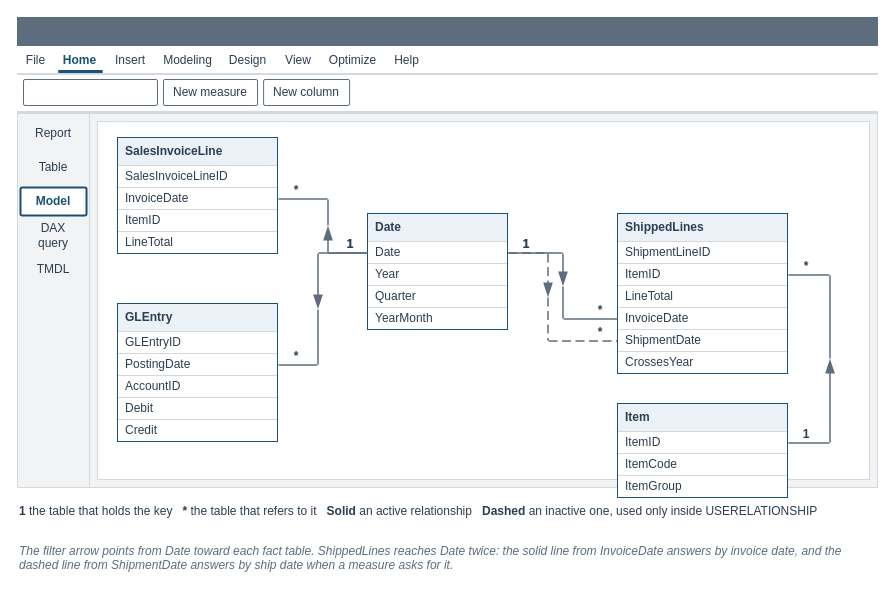
The diagram is 895 pixels wide and 597 high, and some of its shapes have lost their labels. Here are the shapes that lost their labels. From the top down, the centre of each, then its label:
At [447,31]: "Chapter 14 Exercises - Solutions - Power BI Desktop".
At [90,92]: "Manage relationships".
